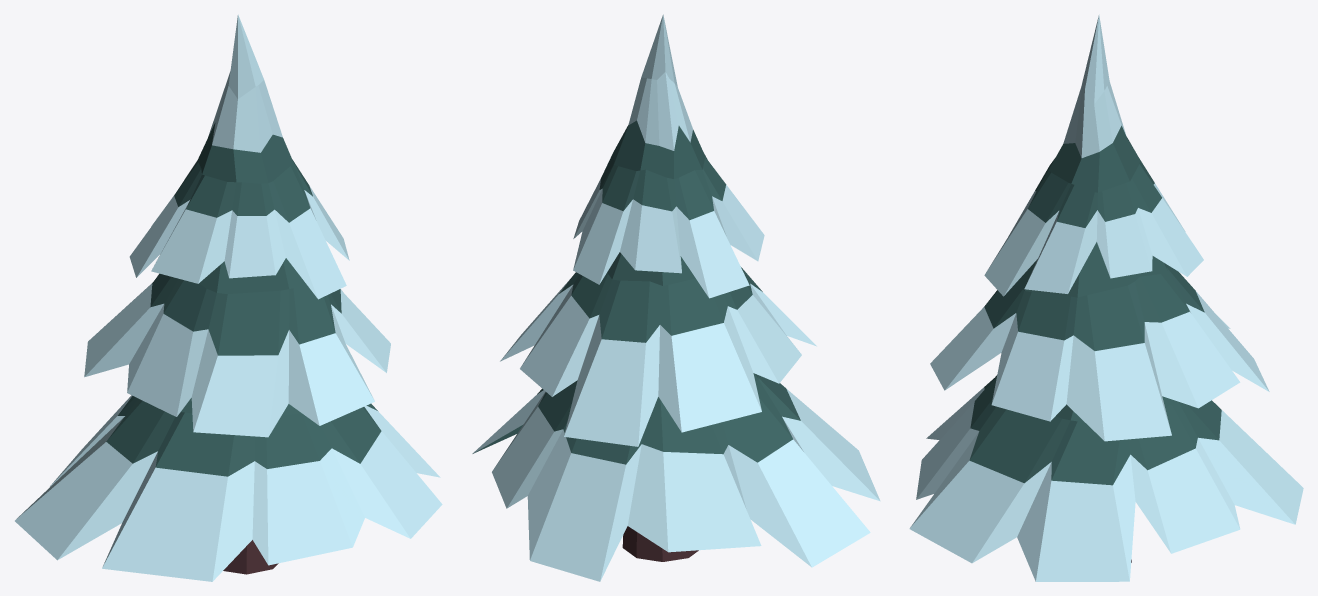
File: snowtree.fbx
The picture shows the model from 3 angles, left to right: view 1: azimuth 30°, elevation 25°; view 2: azimuth 150°, elevation 25°; view 3: azimuth 270°, elevation 25°; orthographic projection.
Parts seen in each view (by area): view 1: Cone.002, Cone.001, Cone, Cylinder.003; view 2: Cone.002, Cone.001, Cone, Cylinder.003; view 3: Cone.002, Cone.001, Cone.
Part boxes in pixels (x1,y1,x2,y2): Cone.002: [15, 395, 442, 581]; Cone.001: [84, 258, 390, 437]; Cone: [129, 14, 349, 299]; Cylinder.003: [223, 540, 278, 574]; Cone.002: [472, 373, 880, 581]; Cone.001: [500, 252, 816, 446]; Cone: [573, 14, 764, 298]; Cylinder.003: [622, 526, 698, 561]; Cone.002: [909, 375, 1303, 581]; Cone.001: [930, 242, 1269, 441]; Cone: [984, 14, 1203, 296].
Size of the model in its own units: 532 by 585 by 808.
